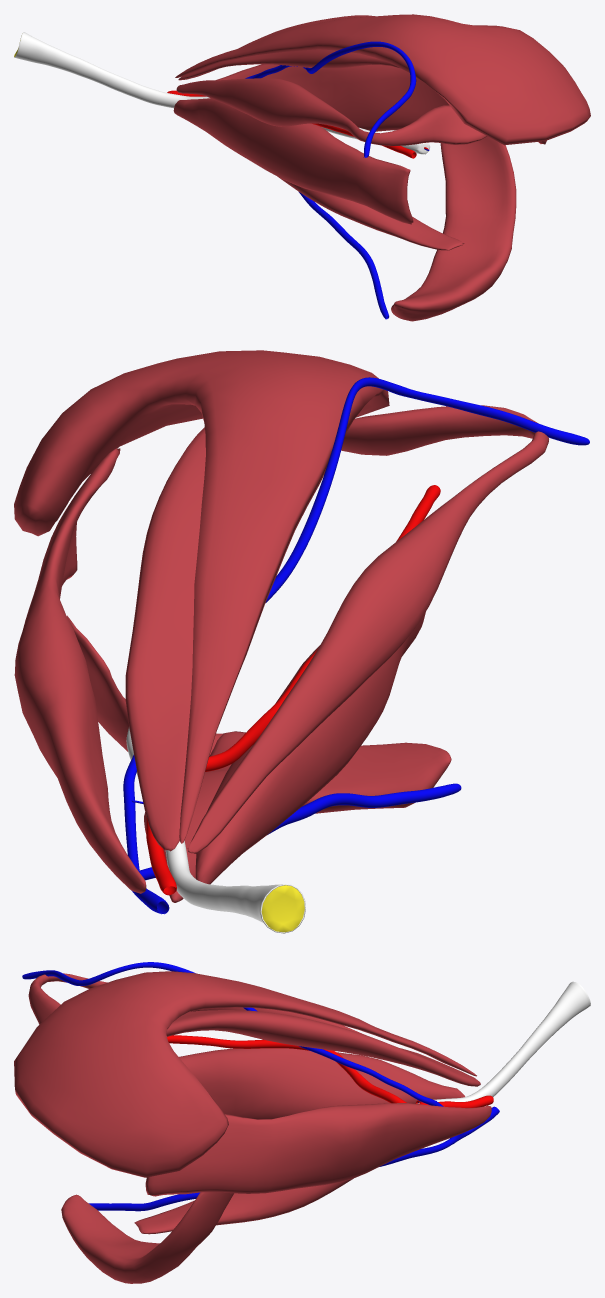
File: VH_F_Eye_L_Landmarks.glb
3 renders of one model, top to bottom at view 1: azimuth 30°, elevation 25°; view 2: azimuth 150°, elevation 25°; view 3: azimuth 270°, elevation 25°, orthographic. The views are drawn at different scales.
Visible parts, largest first — view 1: VH_F_eye_L_landmark_muscles, VH_F_eye_L_landmark_dura_mater_optic_nerve, VH_F_eye_L_landmark_veins, VH_F_eye_L_landmark_arteries; view 2: VH_F_eye_L_landmark_muscles, VH_F_eye_L_landmark_veins, VH_F_eye_L_landmark_dura_mater_optic_nerve, VH_F_eye_L_landmark_arteries; view 3: VH_F_eye_L_landmark_muscles, VH_F_eye_L_landmark_veins, VH_F_eye_L_landmark_dura_mater_optic_nerve, VH_F_eye_L_landmark_arteries.
Part boxes in pixels (x1=…): VH_F_eye_L_landmark_muscles: x1=173, y1=14, x2=590, y2=321; VH_F_eye_L_landmark_dura_mater_optic_nerve: x1=14, y1=32, x2=429, y2=154; VH_F_eye_L_landmark_veins: x1=245, y1=41, x2=429, y2=319; VH_F_eye_L_landmark_arteries: x1=167, y1=90, x2=428, y2=158; VH_F_eye_L_landmark_muscles: x1=14, y1=350, x2=548, y2=902; VH_F_eye_L_landmark_veins: x1=123, y1=377, x2=589, y2=914; VH_F_eye_L_landmark_dura_mater_optic_nerve: x1=126, y1=727, x2=305, y2=933; VH_F_eye_L_landmark_arteries: x1=146, y1=485, x2=440, y2=895; VH_F_eye_L_landmark_muscles: x1=14, y1=971, x2=491, y2=1283; VH_F_eye_L_landmark_veins: x1=22, y1=962, x2=499, y2=1211; VH_F_eye_L_landmark_dura_mater_optic_nerve: x1=417, y1=981, x2=590, y2=1103; VH_F_eye_L_landmark_arteries: x1=167, y1=1035, x2=493, y2=1107.
Bounding box in the file's own units: 0.0498 × 0.0358 × 0.0658.
